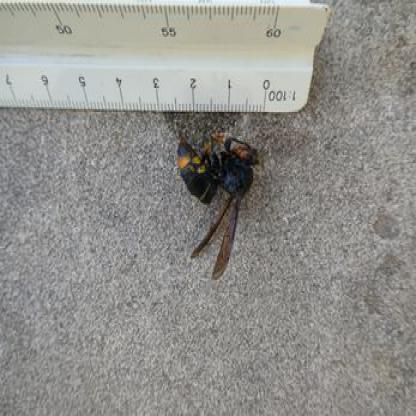Asian Hornet: (169, 127, 268, 215)
